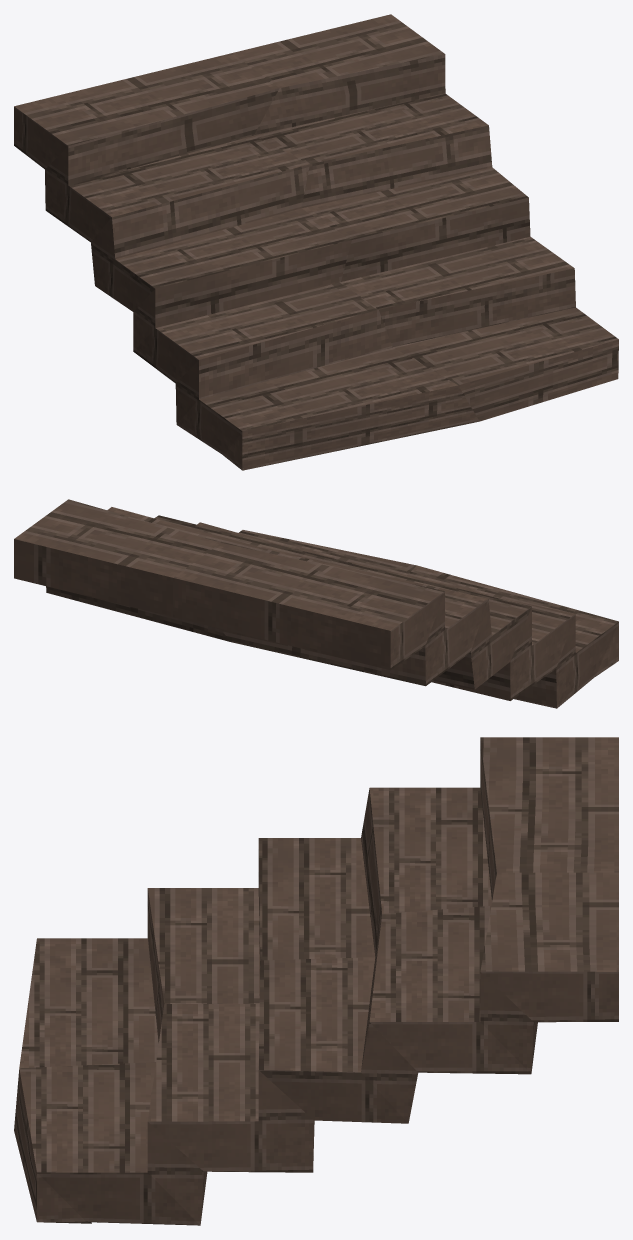
The model's file is stairs_wood.glb.
The picture shows the model from 3 angles, top to bottom: view 1: azimuth 30°, elevation 25°; view 2: azimuth 150°, elevation 25°; view 3: azimuth 270°, elevation 25°; orthographic projection. The views are drawn at different scales.
Parts seen in each view (by area): view 1: stairs_wood; view 2: stairs_wood; view 3: stairs_wood.
Boxes of the visible parts, <box> form: stairs_wood: <box>14,14,618,470</box>; stairs_wood: <box>14,499,618,708</box>; stairs_wood: <box>14,737,618,1225</box>.
Bounding box in the file's own units: 2.02 × 1.01 × 2.18.
1 material, 1 textured.
